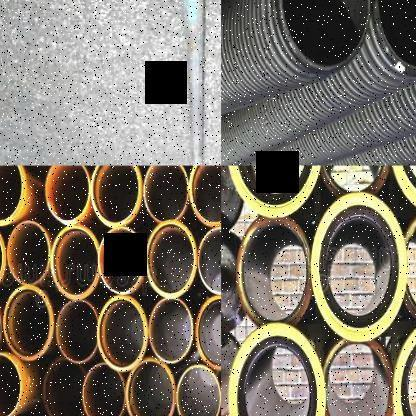pipe: (311, 193, 407, 342), (228, 322, 325, 416), (235, 216, 312, 325), (280, 0, 370, 69), (322, 337, 393, 416), (226, 166, 324, 218), (96, 294, 148, 372), (146, 220, 196, 298), (50, 224, 100, 300), (3, 286, 54, 360), (90, 166, 142, 226), (125, 357, 176, 416), (99, 227, 144, 293), (148, 299, 193, 363), (7, 220, 50, 285), (376, 0, 416, 69), (56, 300, 98, 362), (43, 357, 87, 416), (45, 166, 90, 223), (143, 166, 188, 222), (176, 364, 221, 416), (82, 363, 124, 416), (194, 294, 222, 370), (320, 165, 391, 194), (188, 166, 222, 226), (197, 226, 221, 294), (0, 166, 25, 224), (404, 211, 416, 323), (0, 353, 21, 416)
